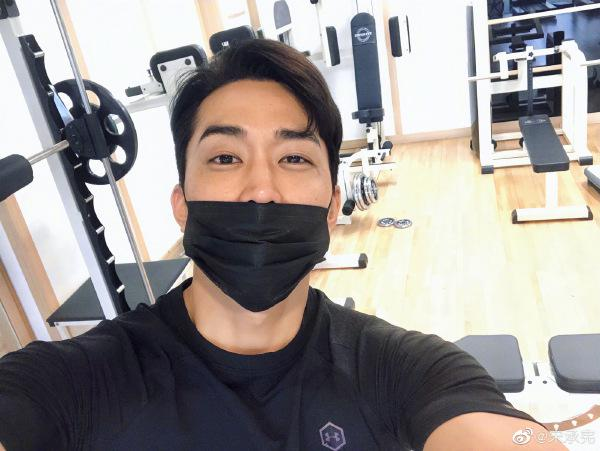WRONG: (187, 106, 334, 305)
